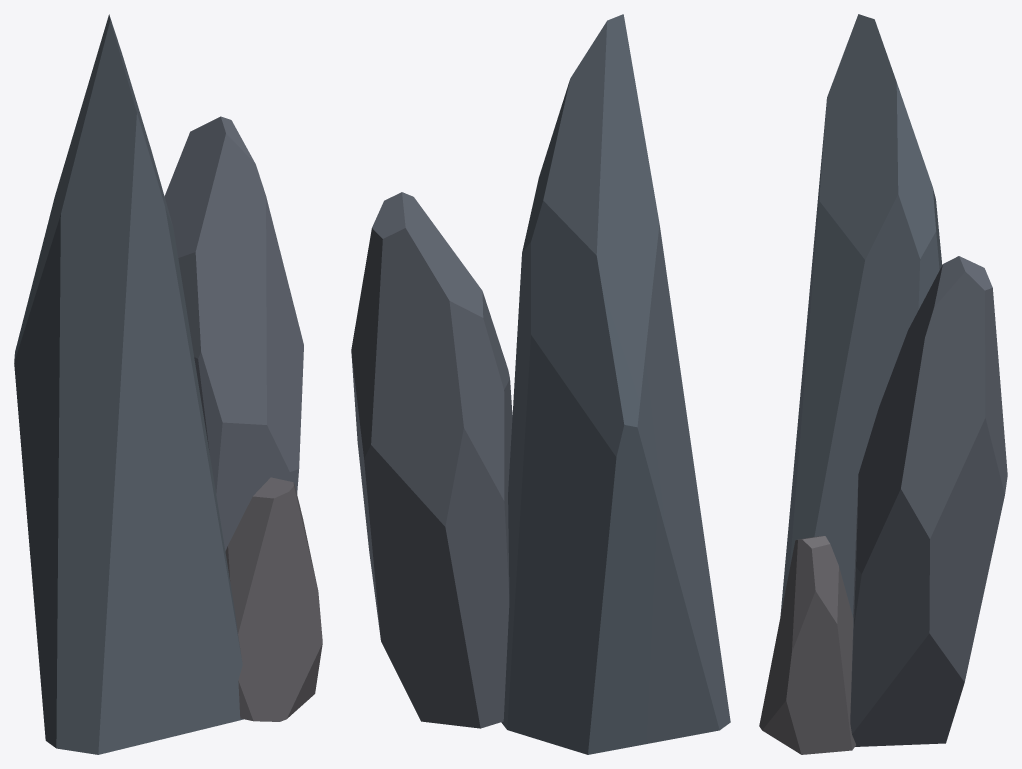
File: Rocks_Sharp_l_05.fbx
3 renders of one model, left to right at view 1: azimuth 30°, elevation 25°; view 2: azimuth 150°, elevation 25°; view 3: azimuth 270°, elevation 25°, orthographic. The views are drawn at different scales.
Parts seen in each view (by area): view 1: Rocks_Sharp_l_05; view 2: Rocks_Sharp_l_05; view 3: Rocks_Sharp_l_05.
Boxes of the visible parts, x1,y1,x2,y2 form: Rocks_Sharp_l_05: (14, 14, 322, 754); Rocks_Sharp_l_05: (351, 14, 730, 754); Rocks_Sharp_l_05: (759, 14, 1007, 754).
Size of the model in its own units: 249 by 548 by 187.
